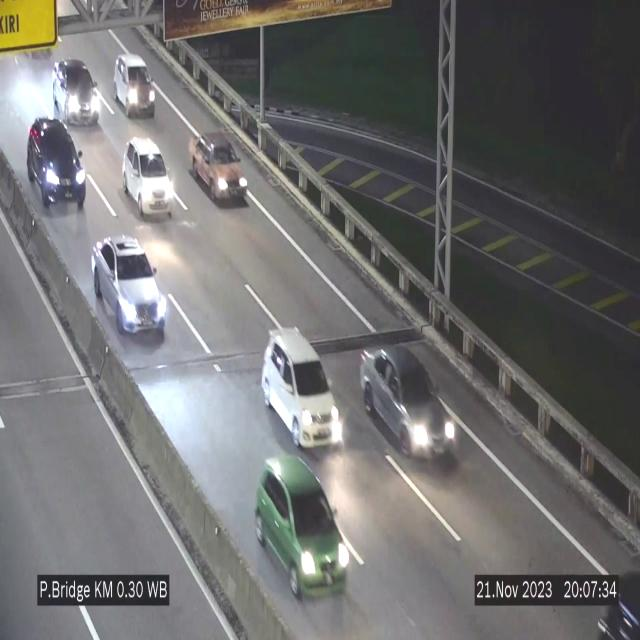Car: (256, 452, 352, 612), (357, 342, 457, 468), (262, 328, 342, 448), (91, 235, 167, 337), (26, 115, 90, 215), (123, 138, 175, 218), (189, 134, 247, 204), (52, 55, 104, 132), (114, 54, 156, 117)
